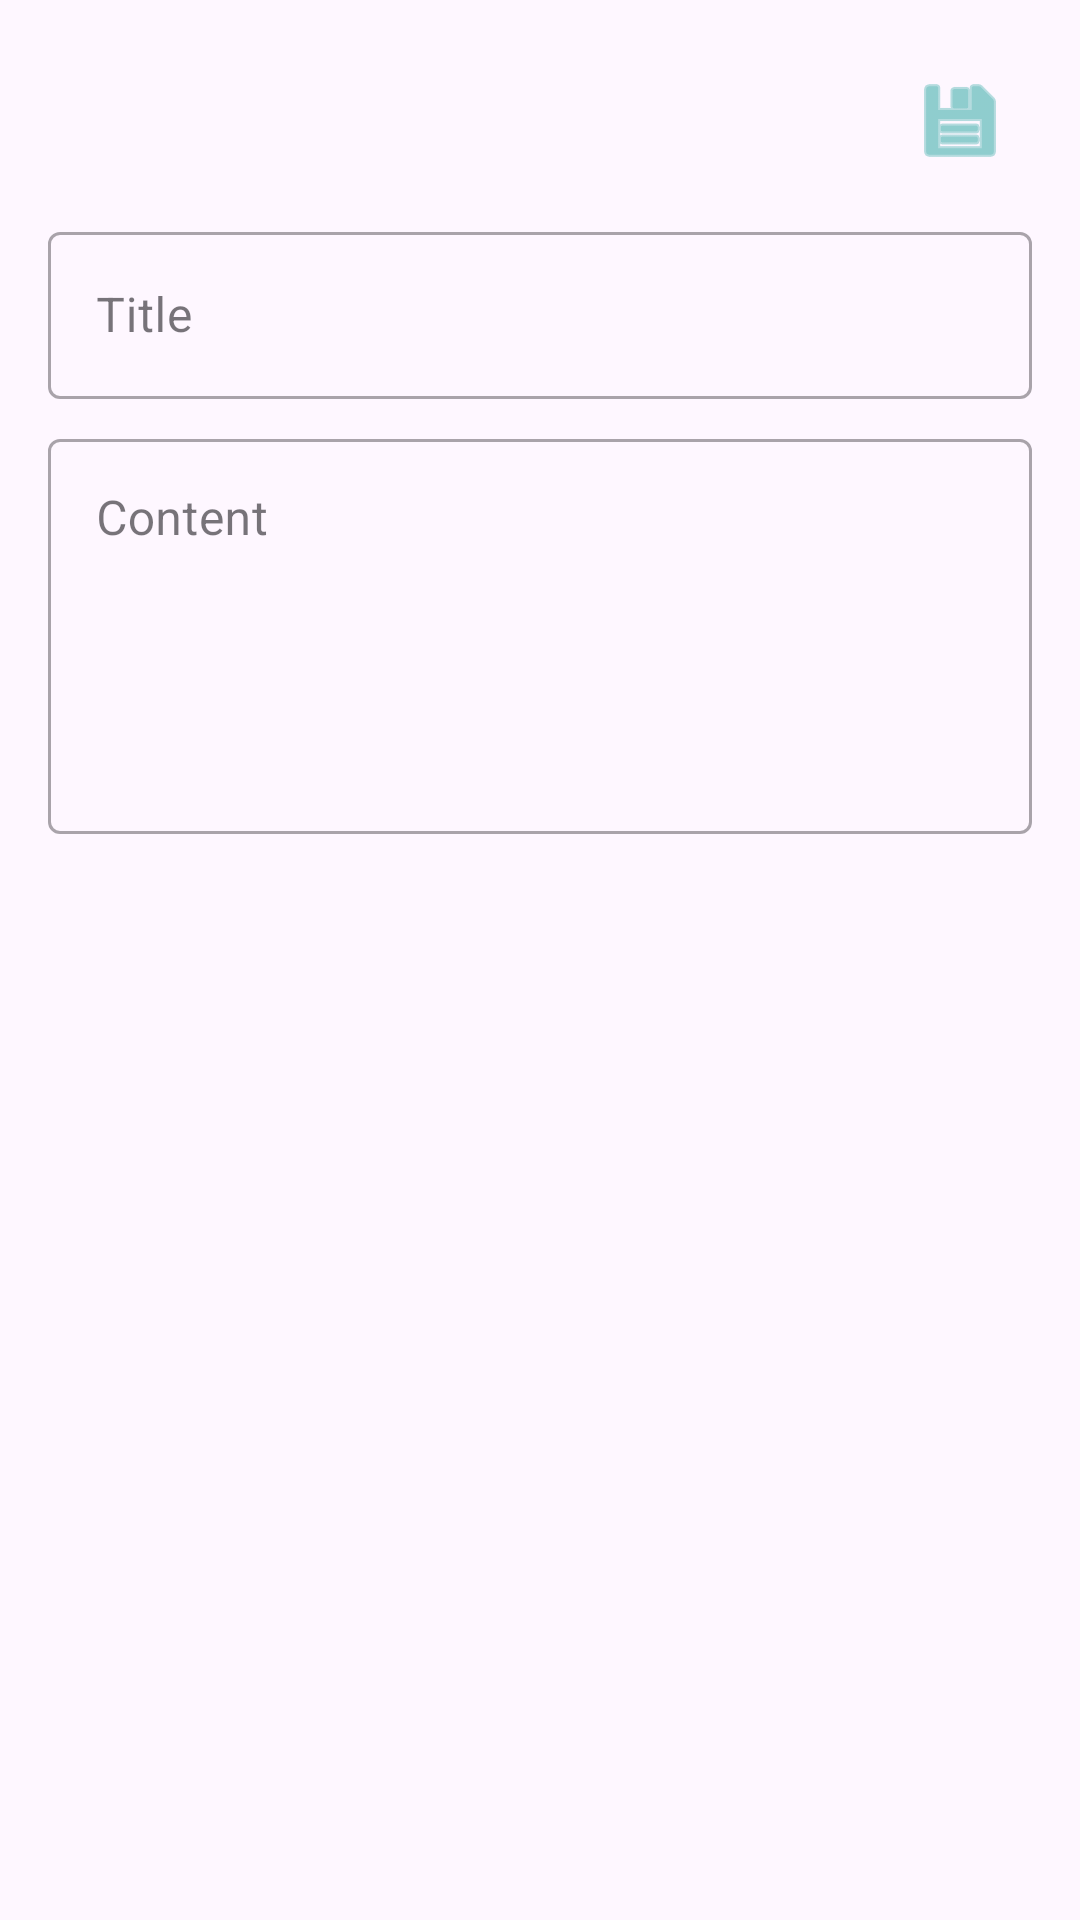

Screen size 1080×1920. Icon name, then its box in pixels as (x1, y1, x2, y2):
Save: (924, 84, 996, 157)
